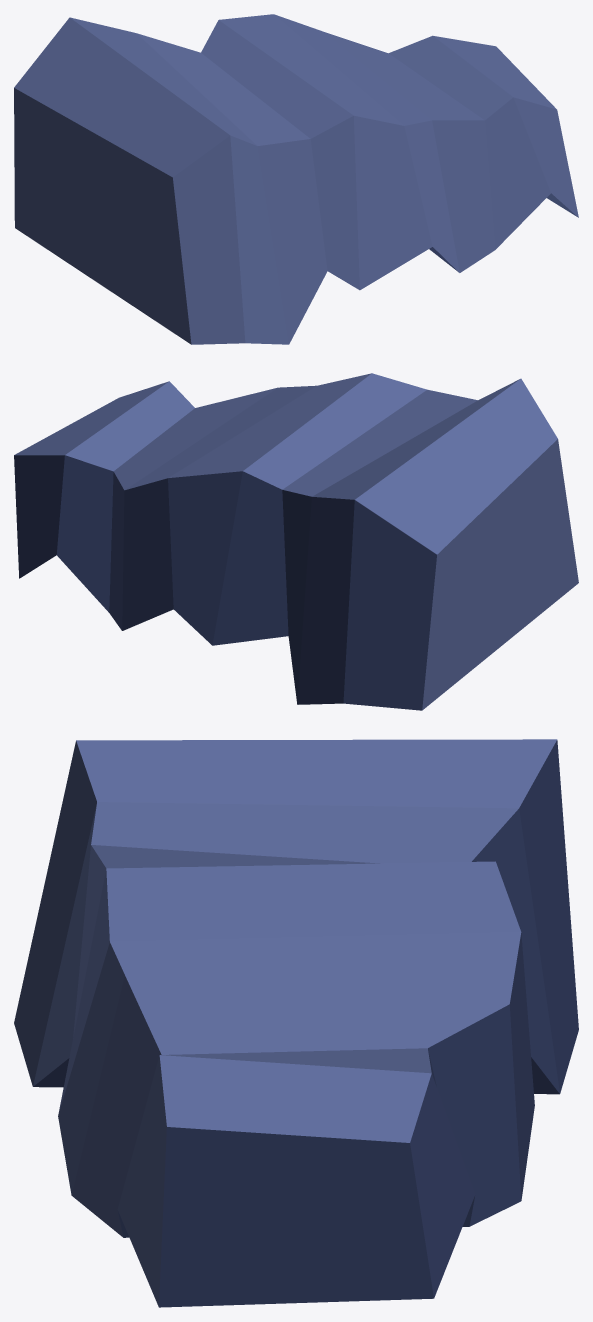
Rendered from ledge-1.glb.
The picture shows the model from 3 angles, top to bottom: view 1: azimuth 30°, elevation 25°; view 2: azimuth 150°, elevation 25°; view 3: azimuth 270°, elevation 25°; orthographic projection. The views are drawn at different scales.
Parts seen in each view (by area): view 1: ledge-1; view 2: ledge-1; view 3: ledge-1.
Part boxes in pixels (left/top/right/bottom): ledge-1: left=14, top=14, right=578, bottom=344; ledge-1: left=14, top=373, right=578, bottom=710; ledge-1: left=14, top=739, right=578, bottom=1307.
Bounding box in the file's own units: 3.87 × 1.74 × 2.84.
